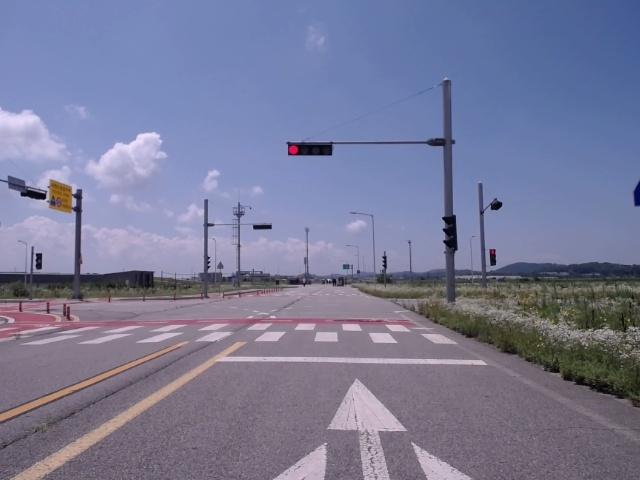red_4: (287, 144, 333, 156)
